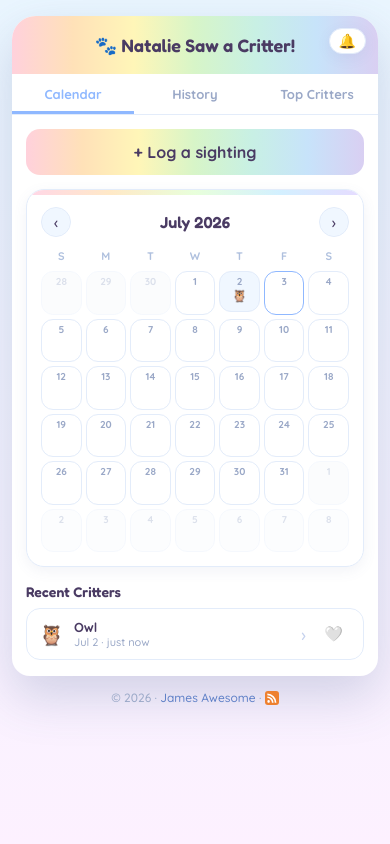
Test case: App shell › surfaces recently seen critters in the picker after sightings load
Click the button "+ Log a sighting".
click(195, 152)  # box [26, 129, 364, 175]
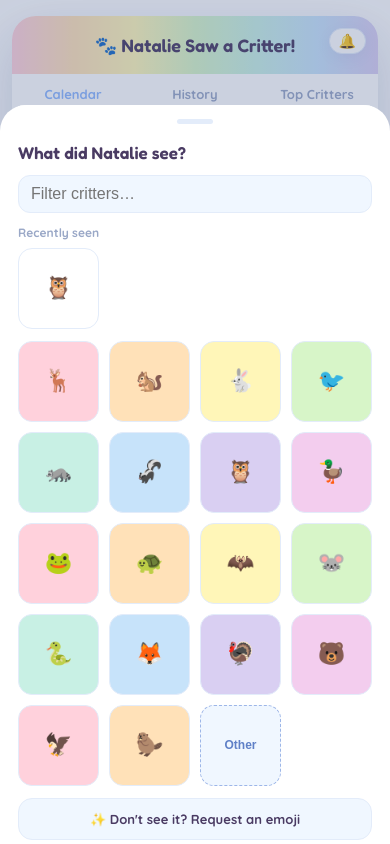
expect the button named "Recently seen Owl" is shown: met, box [18, 248, 99, 329]
